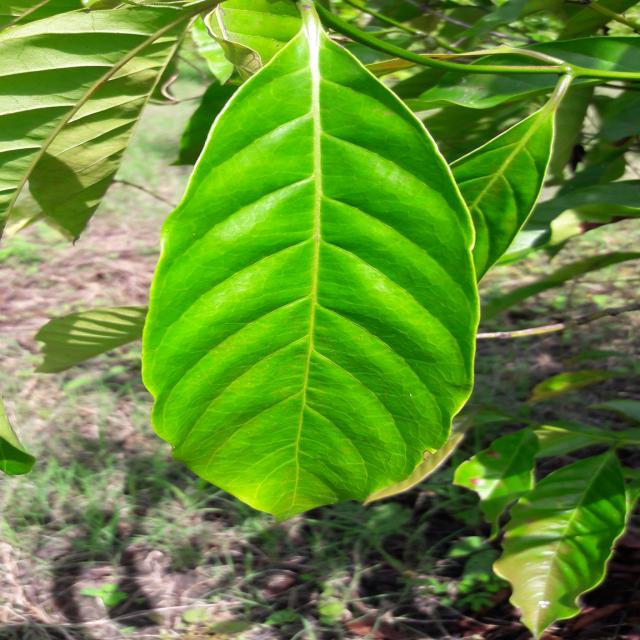Sanas: (142, 33, 473, 522)
